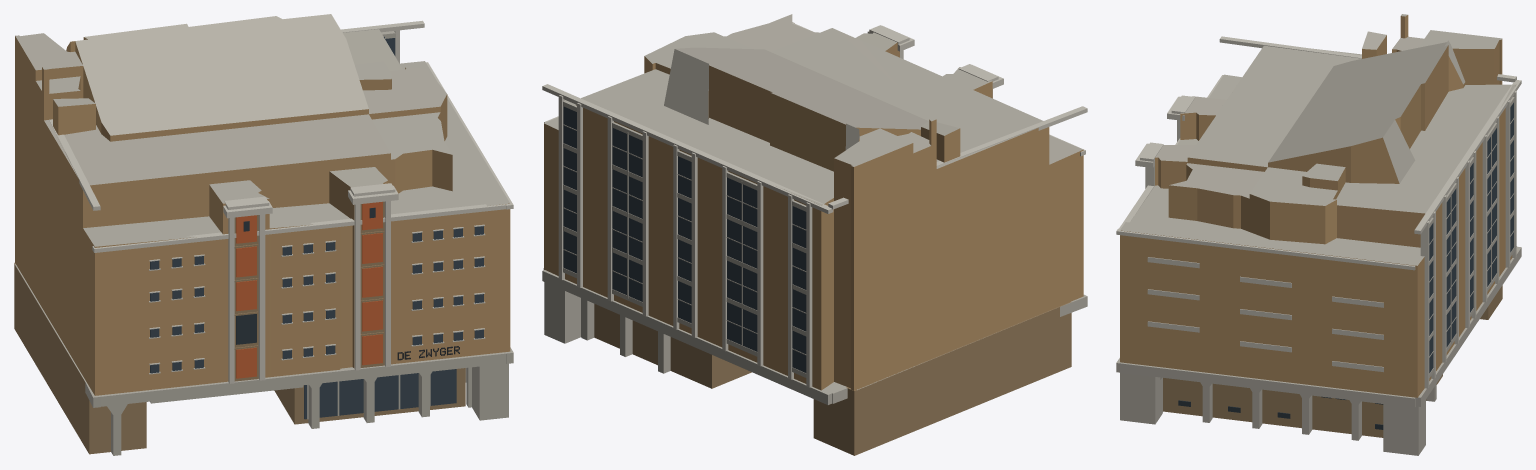
The model's file is pakhuis-de-zwijger.glb.
3 views of the same model, side by side, from view 1: azimuth 30°, elevation 25°; view 2: azimuth 150°, elevation 25°; view 3: azimuth 270°, elevation 25° (orthographic). The views are drawn at different scales.
Visible parts, largest first — view 1: pakhuis-de-zwijger; view 2: pakhuis-de-zwijger; view 3: pakhuis-de-zwijger.
Part boxes in pixels (<box>): pakhuis-de-zwijger: <box>14,14,513,455</box>; pakhuis-de-zwijger: <box>542,14,1087,455</box>; pakhuis-de-zwijger: <box>1116,14,1521,455</box>.
Size of the model in its own units: 42.36 by 28 by 37.68.
